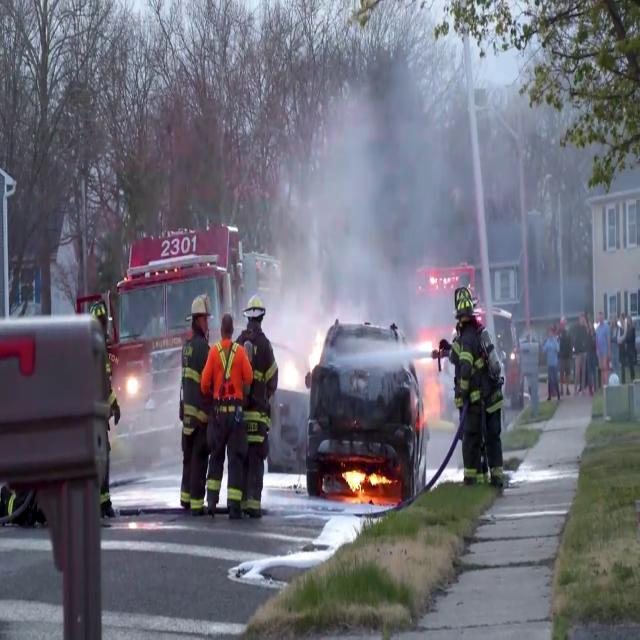Fire: (340, 456, 390, 500), (306, 319, 327, 381)
Smoke: (266, 18, 634, 368)
